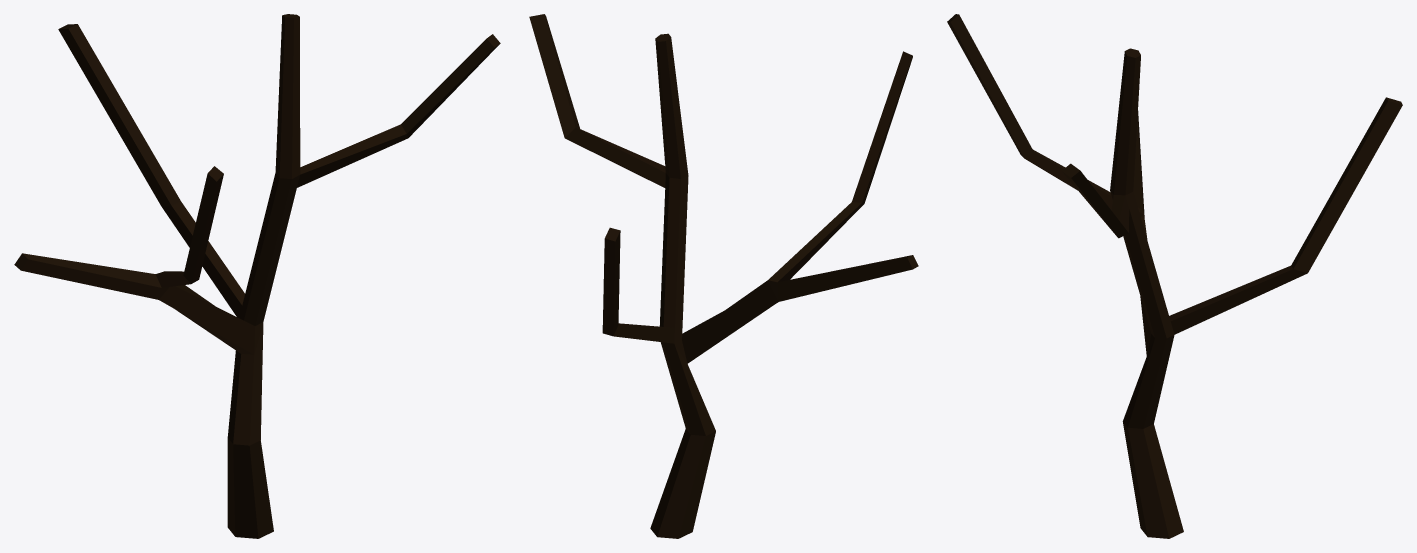
The model's file is Tree Type02 02 Burned Bush.fbx.
The picture shows the model from 3 angles, left to right: view 1: azimuth 30°, elevation 25°; view 2: azimuth 150°, elevation 25°; view 3: azimuth 270°, elevation 25°; orthographic projection. The views are drawn at different scales.
Parts seen in each view (by area): view 1: Tree_Type3_03_mesh; view 2: Tree_Type3_03_mesh; view 3: Tree_Type3_03_mesh.
Boxes of the visible parts, x1,y1,x2,y2 form: Tree_Type3_03_mesh: (14,14,500,538); Tree_Type3_03_mesh: (529,14,918,538); Tree_Type3_03_mesh: (947,14,1402,538).
Bounding box in the file's own units: 324 × 357 × 301.
